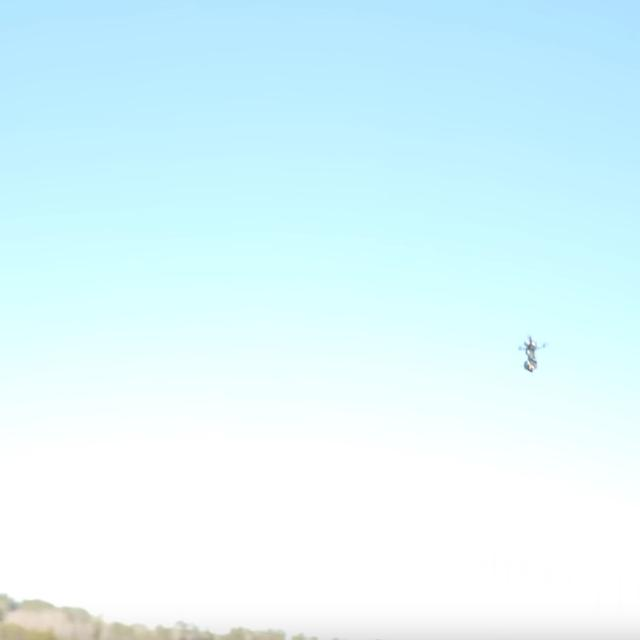drone: (518, 335, 546, 374)
